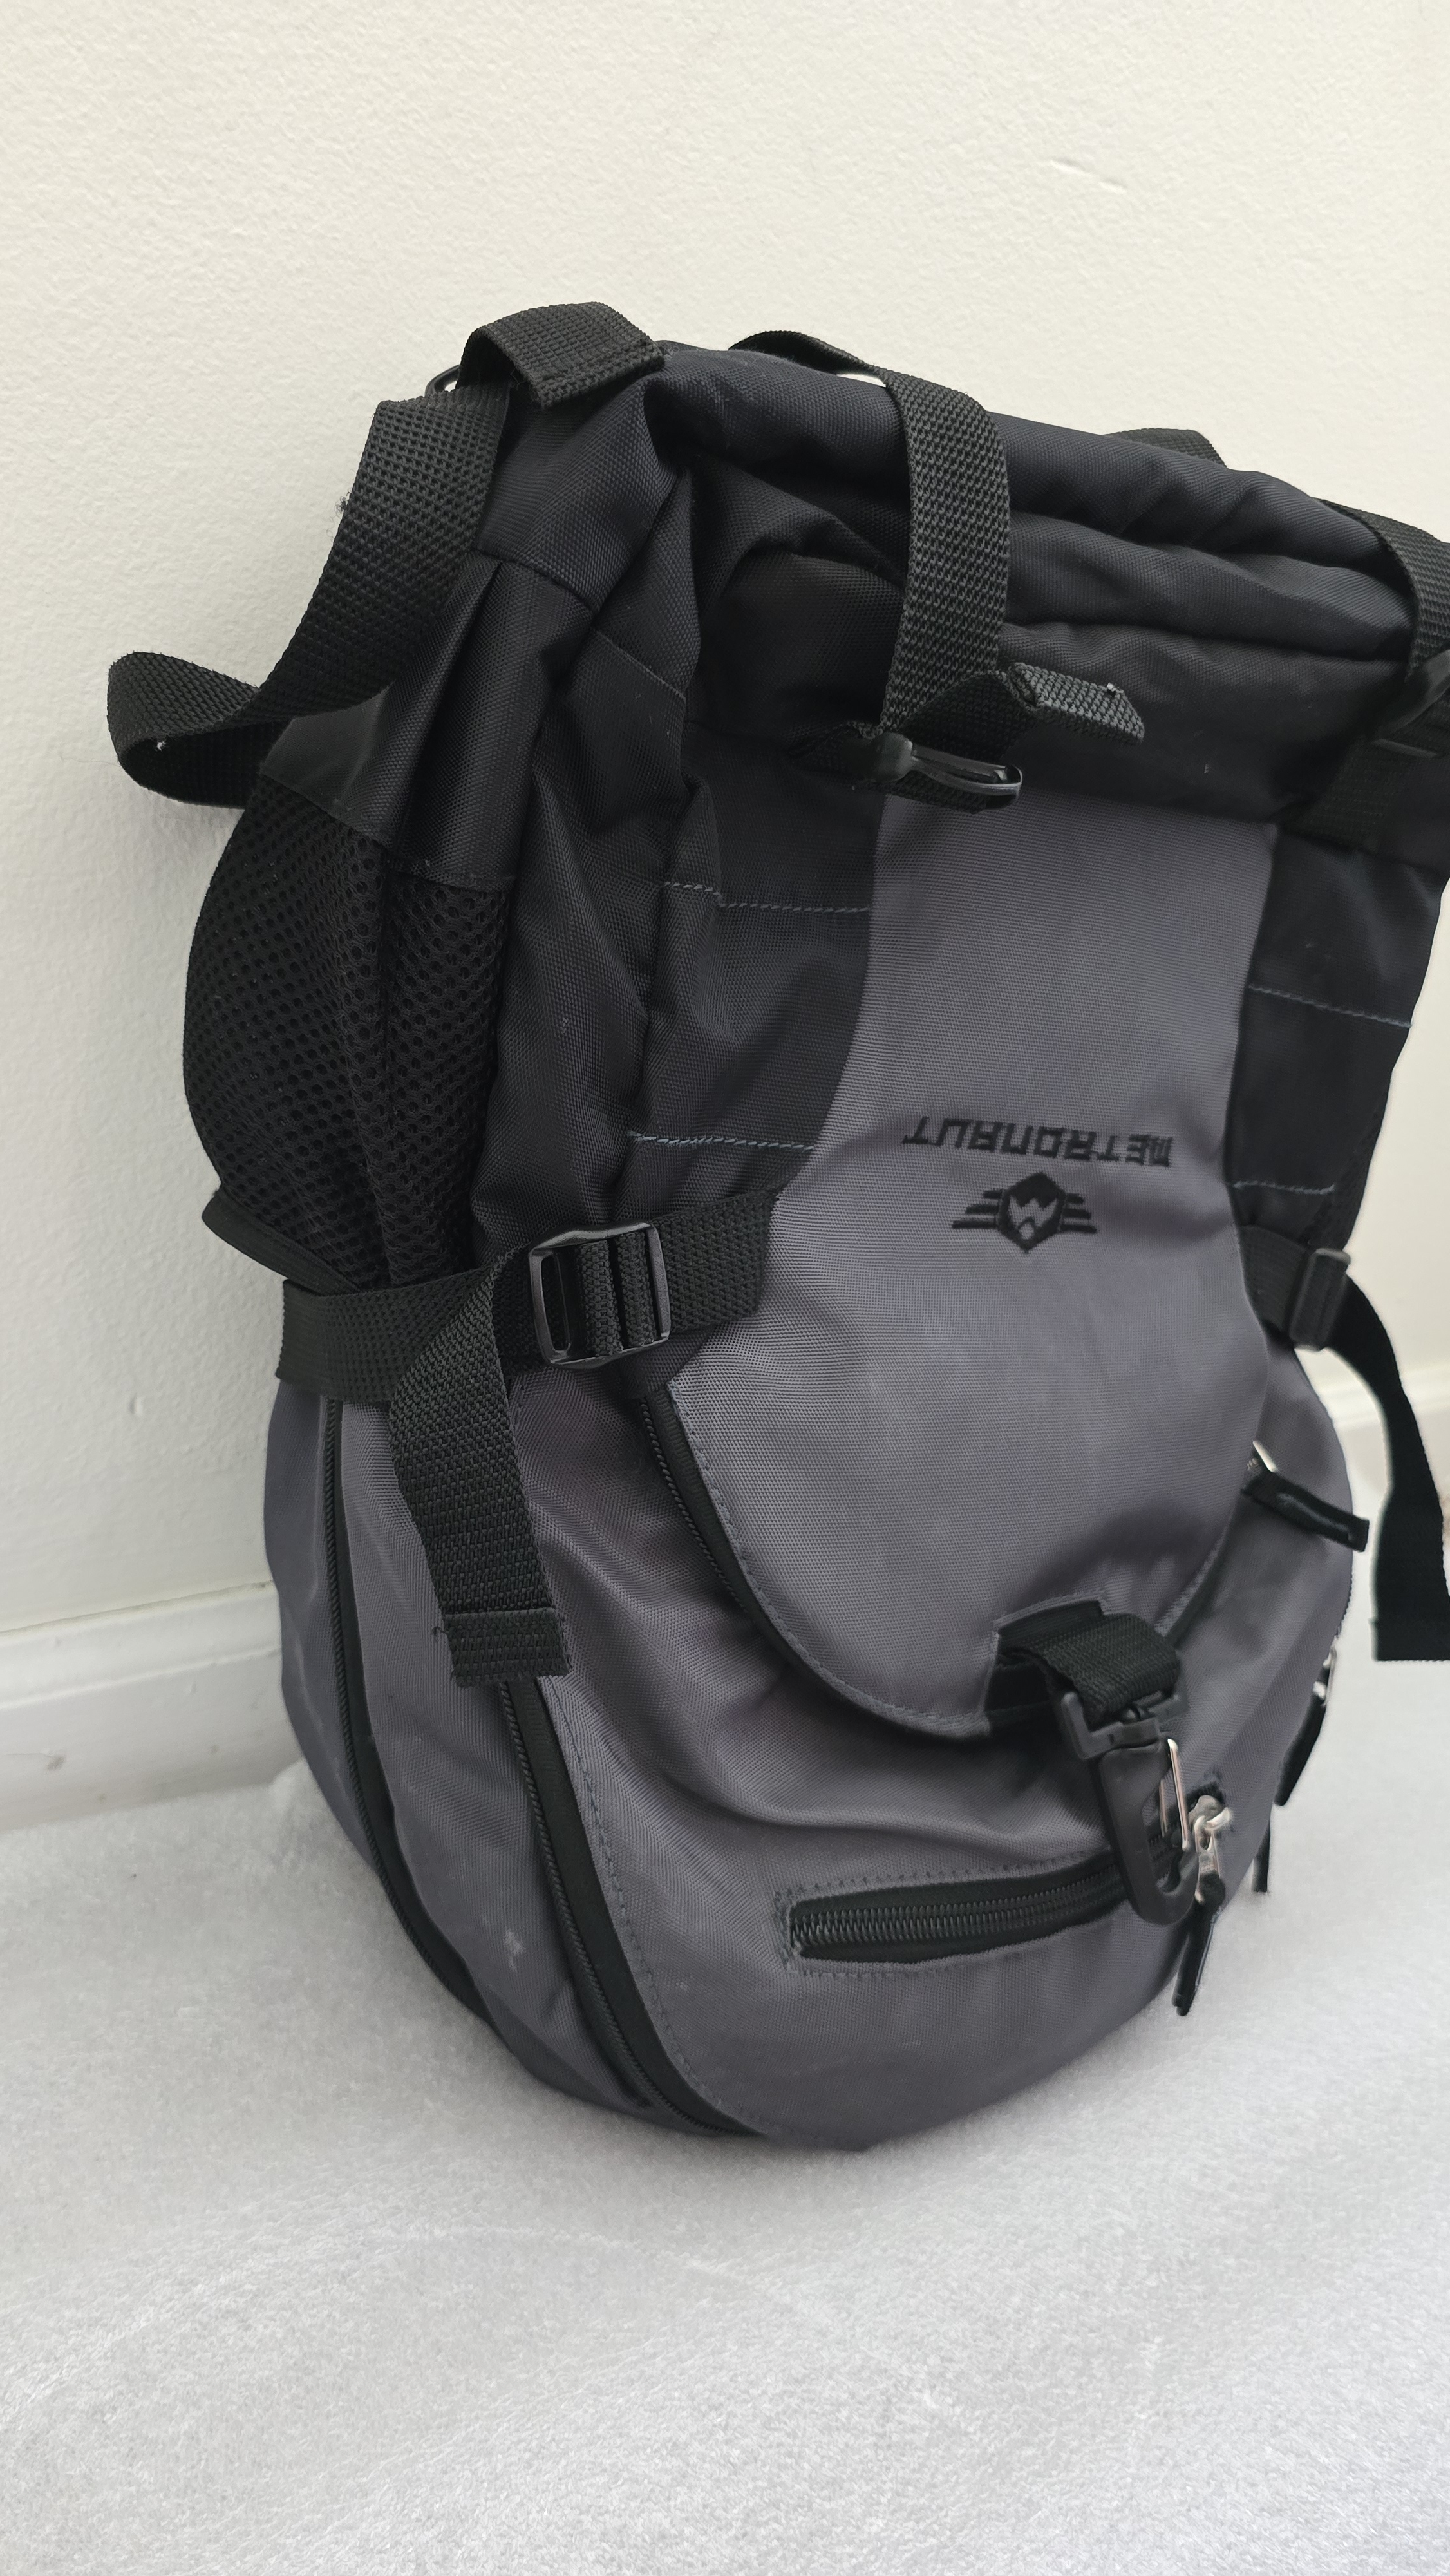bag: (74, 205, 1450, 2176)
